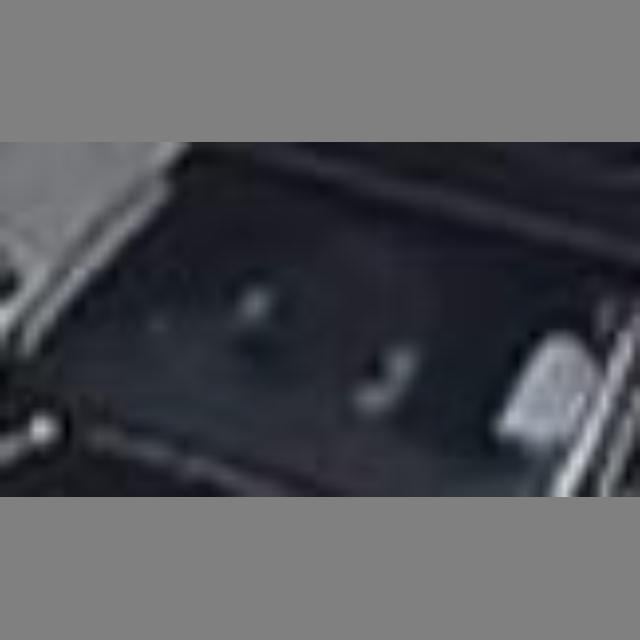tidak-pakai: (229, 221, 403, 426)
